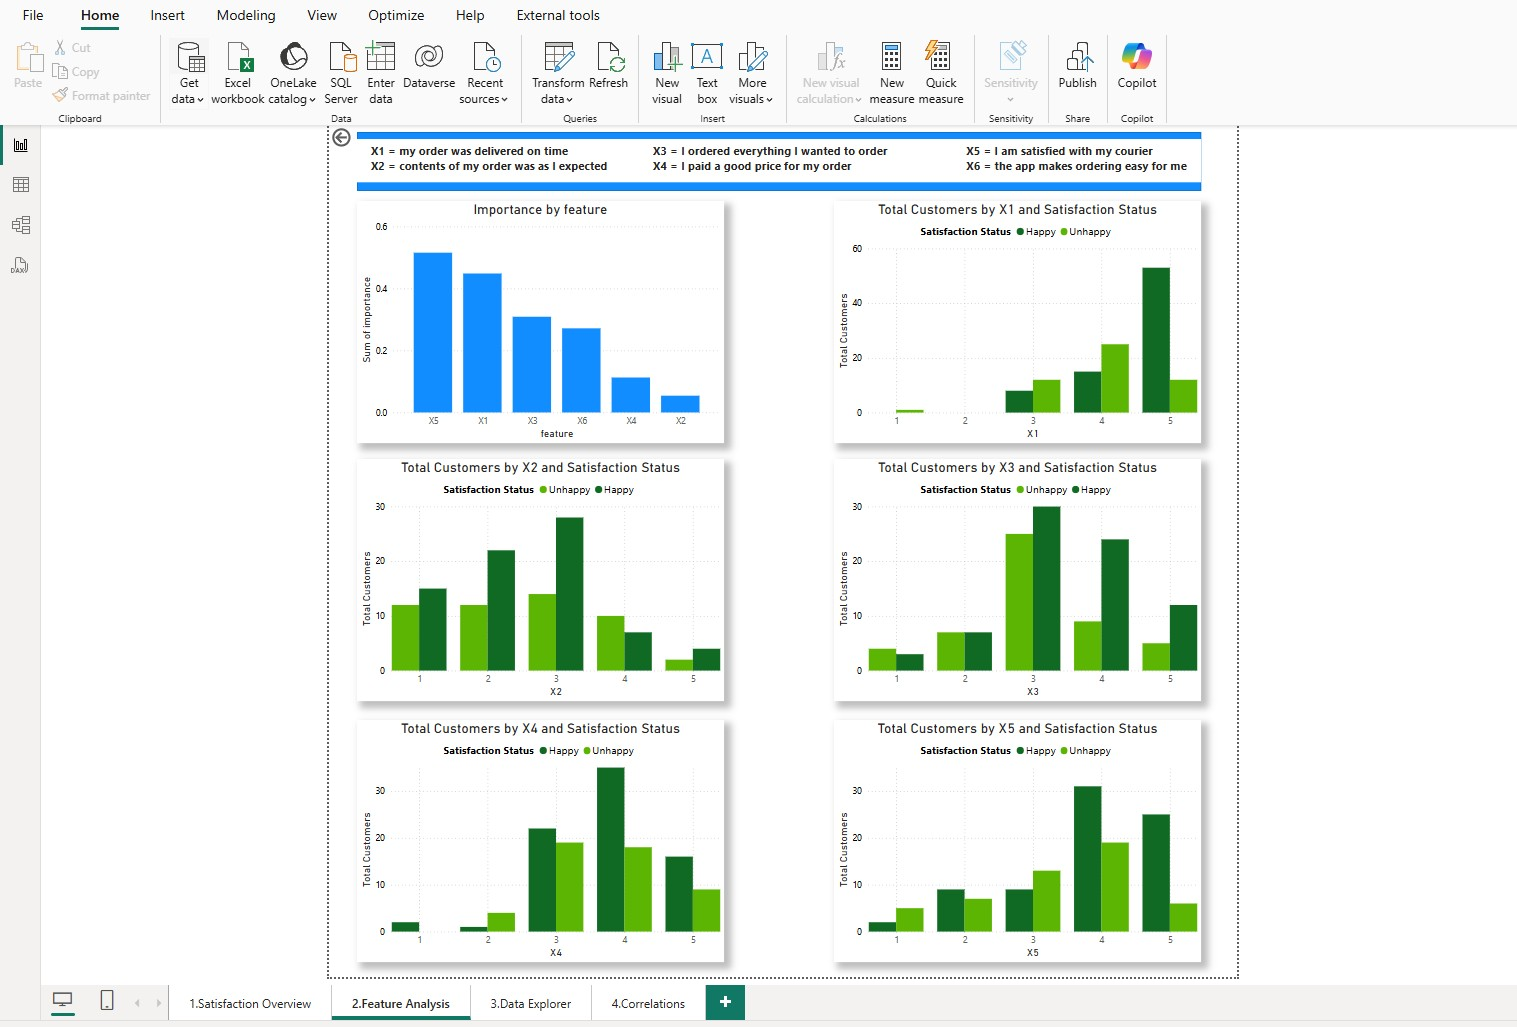

What the dashboard file says about the page in this screenshot:
{"tool":"powerbi","page":{"name":"2.Feature Analysis","canvas":[1280,1200],"ordinal":1},"visuals":[{"type":"shape","box":[39.4,9.9,1188.7,83.1],"z":0,"group":"g1"},{"type":"clusteredColumnChart","title":"Importance by feature","fields":{"Category":["feature_importance.feature"],"Y":["Sum(feature_importance.importance)"]},"box":[39.4,107,516.9,340.8],"z":0},{"type":"textbox","box":[39.4,19.8,1188.7,60.6],"z":1000,"group":"g1"},{"type":"clusteredColumnChart","fields":{"Series":["Predictions.Satisfaction Status"],"Category":["Predictions.X1"],"Y":["Measures_all.Total Customers"]},"box":[711.3,107,516.9,340.8],"z":1000},{"type":"clusteredColumnChart","fields":{"Series":["Predictions.Satisfaction Status"],"Y":["Measures_all.Total Customers"],"Category":["Predictions.X2"]},"box":[39.4,470.4,516.9,340.8],"z":2000},{"type":"clusteredColumnChart","fields":{"Series":["Predictions.Satisfaction Status"],"Category":["Predictions.X3"],"Y":["Measures_all.Total Customers"]},"box":[711.3,470.4,516.9,340.8],"z":3000},{"type":"clusteredColumnChart","fields":{"Series":["Predictions.Satisfaction Status"],"Category":["Predictions.X5"],"Y":["Measures_all.Total Customers"]},"box":[711.3,838,516.9,340.8],"z":4000},{"type":"clusteredColumnChart","fields":{"Series":["Predictions.Satisfaction Status"],"Category":["Predictions.X4"],"Y":["Measures_all.Total Customers"]},"box":[39.4,838,516.9,340.8],"z":5000},{"type":"group","id":"g1","title":"Head","box":[39.4,9.9,1188.7,83.1],"z":6000},{"type":"actionButton","box":[0,0,39.4,35.2],"z":6001}]}

Visuals, with their boxes on the page's 1280x1200 design canvas (x1, y1, x2, y2). These are canvas units, not pixel positions in the 1517x1027 screenshot, which may show the page scaled, cropped or inside an application window:
shape: (left=39, top=10, right=1228, bottom=93)
"Importance by feature" clusteredColumnChart: (left=39, top=107, right=556, bottom=448)
textbox: (left=39, top=20, right=1228, bottom=80)
clusteredColumnChart - Predictions.Satisfaction Status x Predictions.X1: (left=711, top=107, right=1228, bottom=448)
clusteredColumnChart - Predictions.Satisfaction Status x Measures_all.Total Customers: (left=39, top=470, right=556, bottom=811)
clusteredColumnChart - Predictions.Satisfaction Status x Predictions.X3: (left=711, top=470, right=1228, bottom=811)
clusteredColumnChart - Predictions.Satisfaction Status x Predictions.X5: (left=711, top=838, right=1228, bottom=1179)
clusteredColumnChart - Predictions.Satisfaction Status x Predictions.X4: (left=39, top=838, right=556, bottom=1179)
"Head" group: (left=39, top=10, right=1228, bottom=93)
actionButton: (left=0, top=0, right=39, bottom=35)
